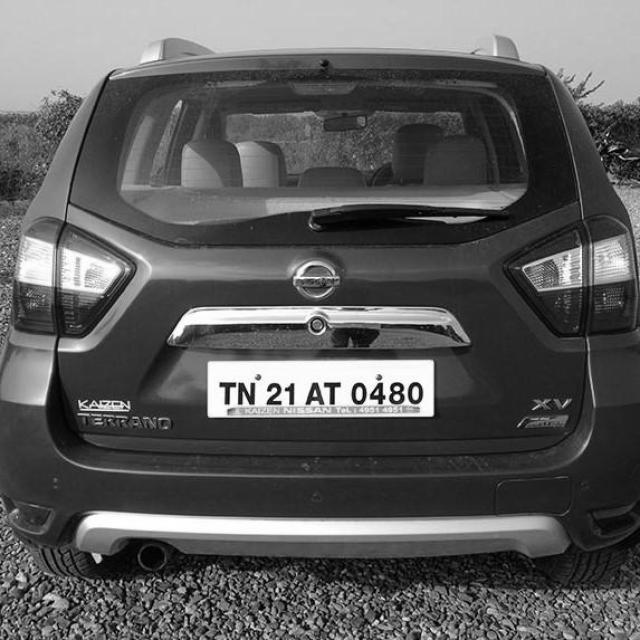car: (2, 44, 640, 552), (210, 344, 433, 416)
license-plate: (208, 353, 436, 420)
